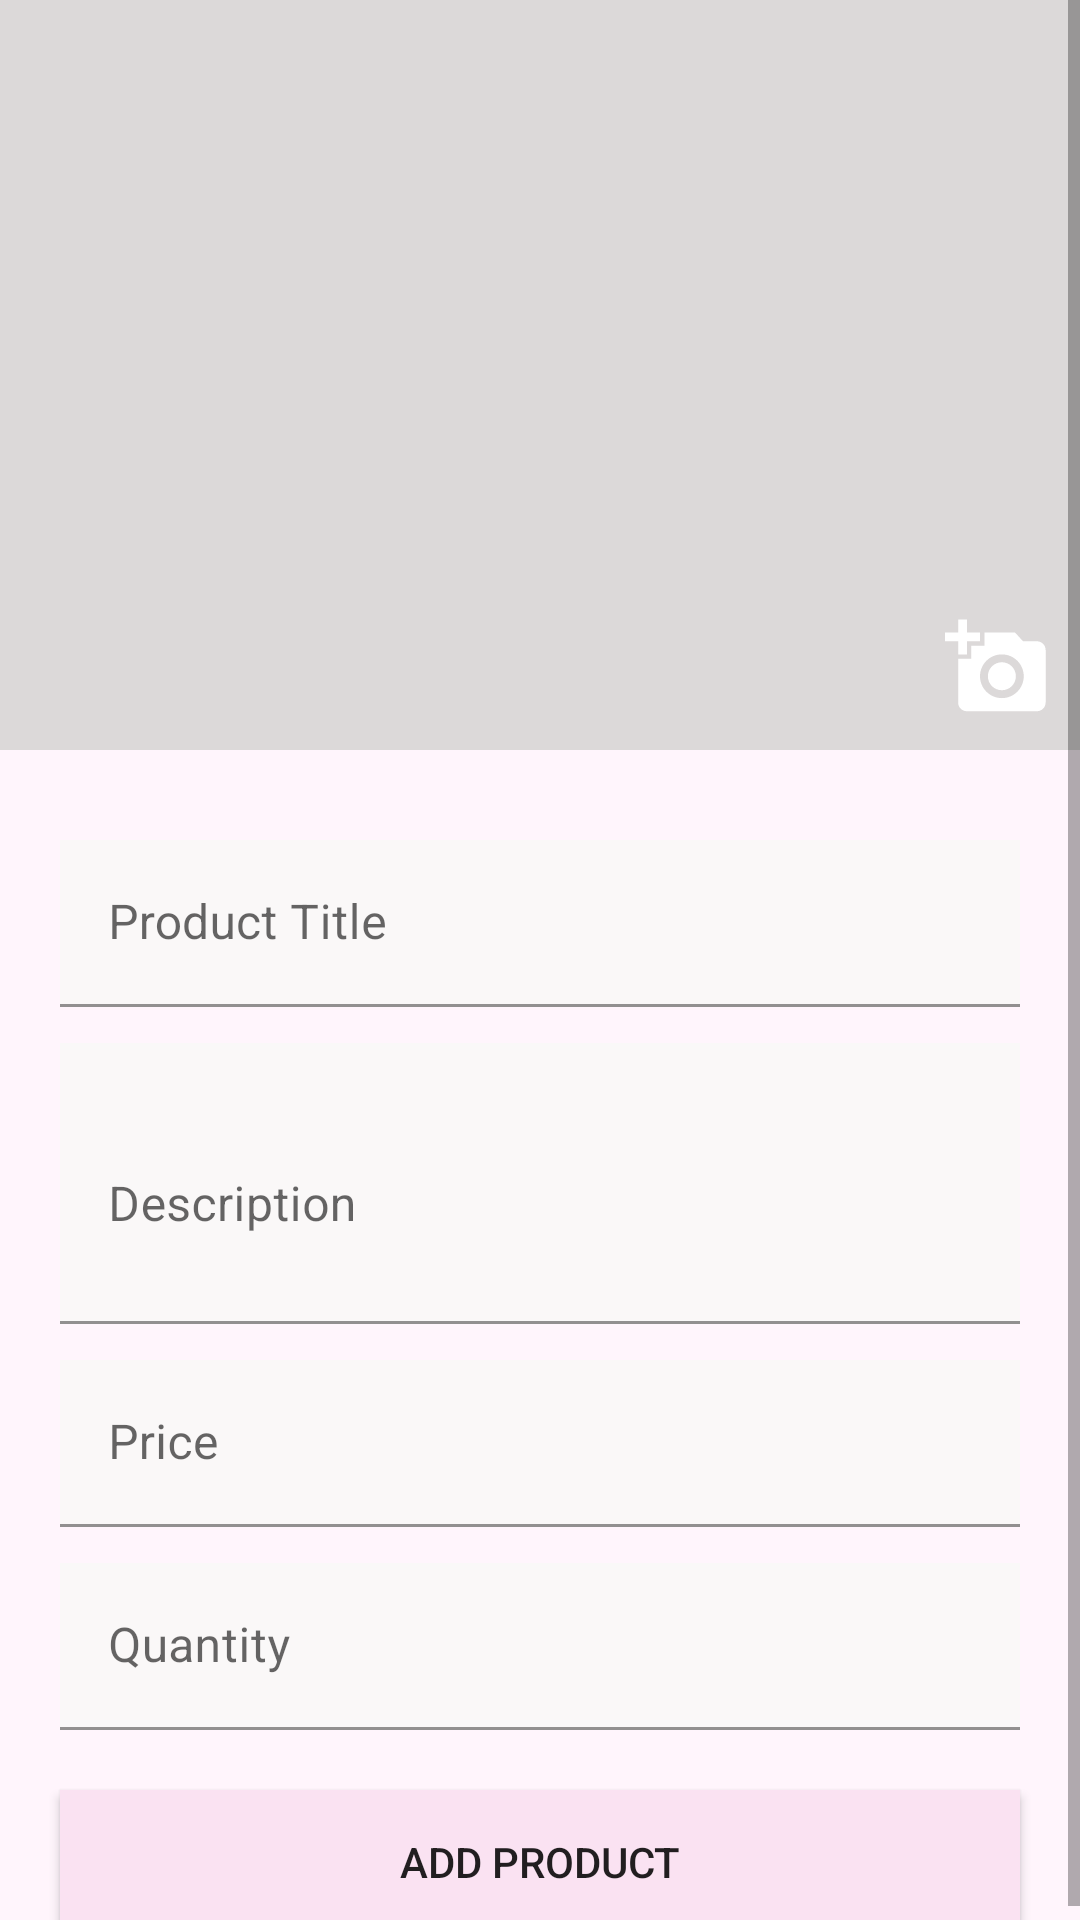

Point at icon controls on the screen. Image size 1080x1920, points as point (x, y).
add photo: point (995, 665)
